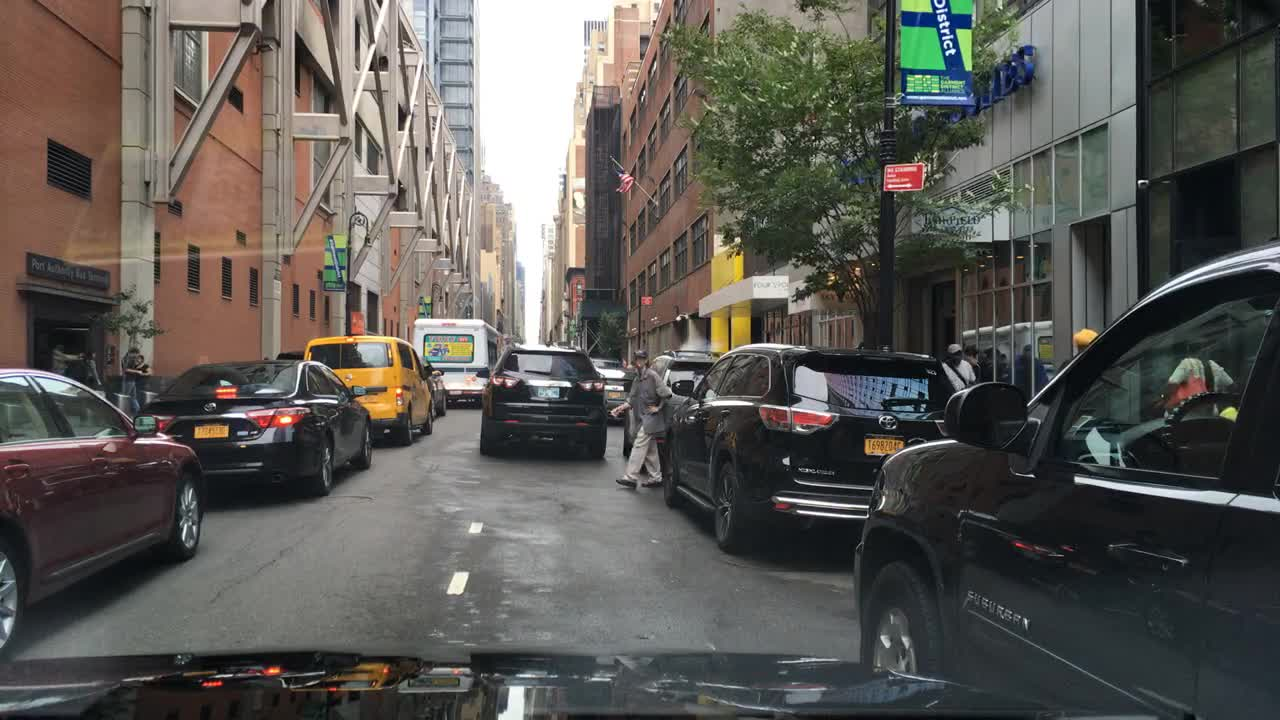bus: (413, 314, 500, 419)
car: (856, 240, 1278, 716), (2, 364, 197, 652), (174, 356, 373, 501), (479, 343, 607, 461), (306, 341, 434, 446), (590, 357, 637, 423), (418, 354, 456, 415)
person: (666, 343, 885, 554), (1157, 335, 1243, 436), (612, 347, 671, 488), (934, 341, 978, 400), (1056, 326, 1100, 385), (1013, 339, 1048, 405), (116, 349, 142, 413), (48, 339, 81, 376), (131, 358, 153, 401), (982, 346, 1004, 385), (83, 347, 104, 387)
traffic sign: (883, 164, 925, 190), (639, 293, 654, 307)
